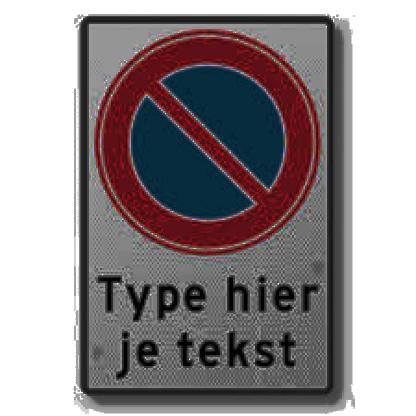No parking: (92, 27, 317, 256)
